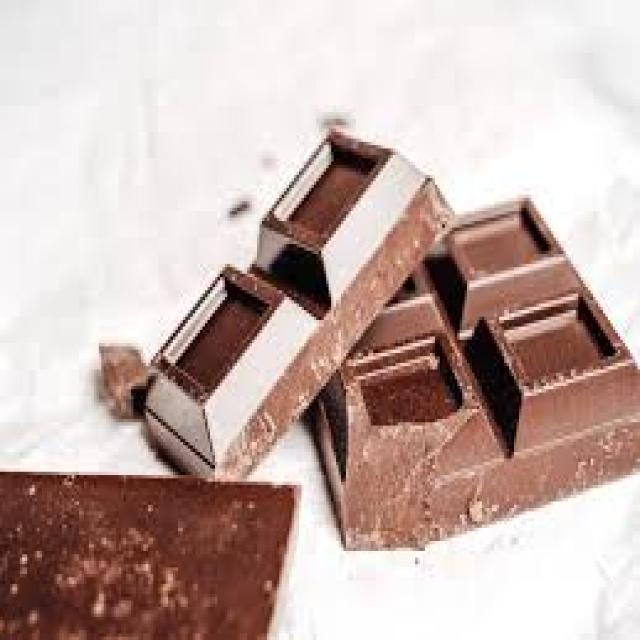Chocolate: (131, 127, 454, 504), (304, 195, 640, 548)
